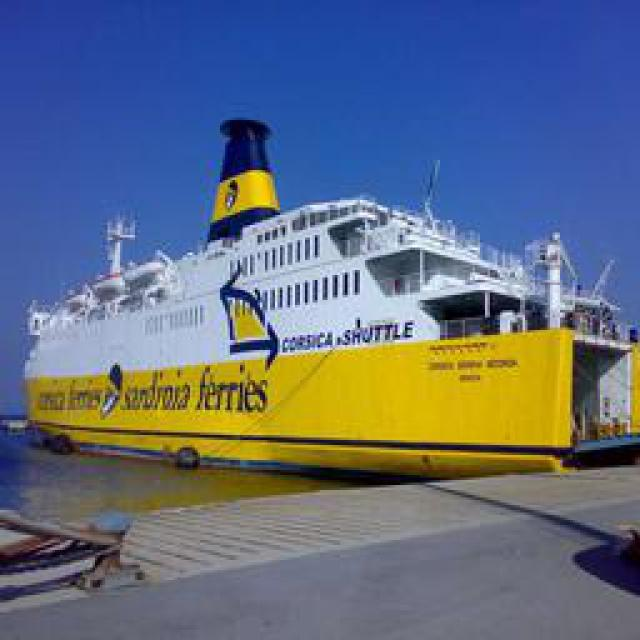Ship: (22, 116, 635, 475)
